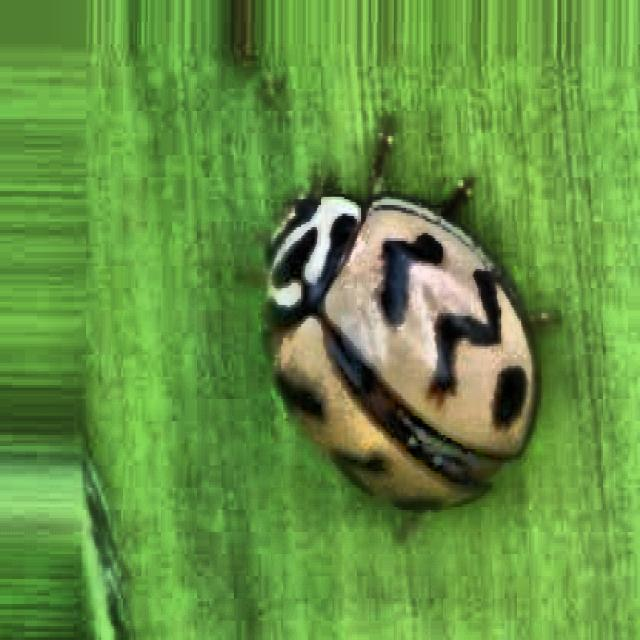Asian-Lady-beetle: (225, 111, 566, 574)
